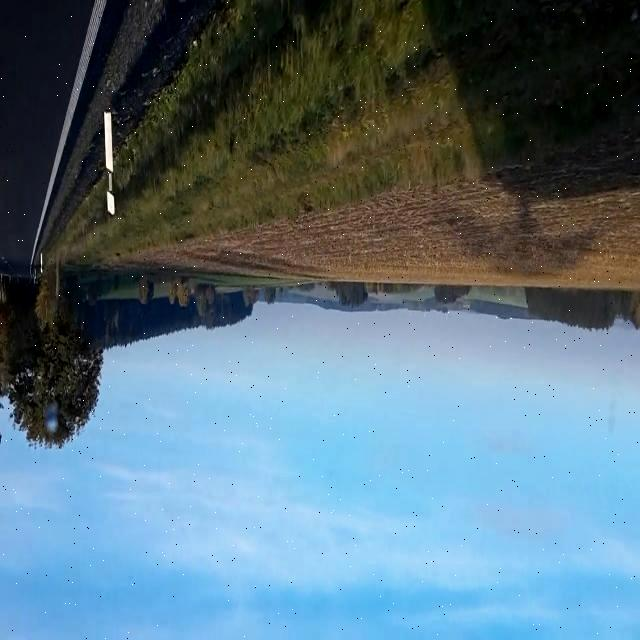lane: (31, 1, 106, 270)
road: (0, 1, 104, 275)
